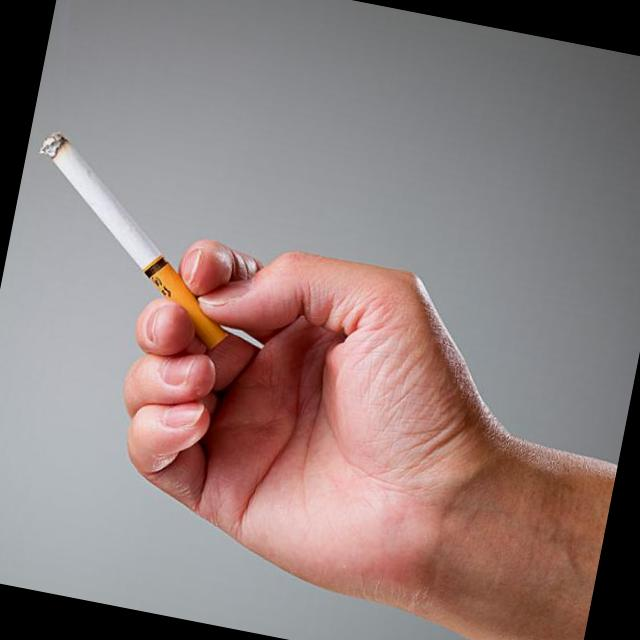smoke: (7, 121, 270, 362)
